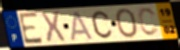A: (70, 11, 95, 42)
C: (137, 6, 161, 38), (90, 10, 114, 40)
E: (17, 11, 45, 46)
O: (114, 7, 140, 40)
X: (39, 11, 67, 44)
